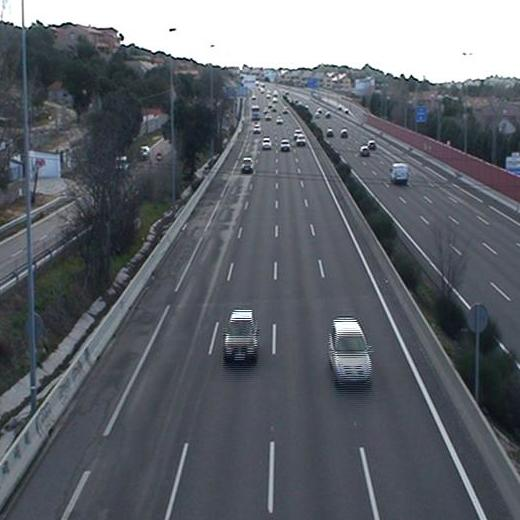car: (326, 316, 376, 386), (221, 309, 259, 362), (239, 157, 255, 174), (294, 133, 308, 147), (280, 138, 292, 153), (260, 137, 272, 151)
